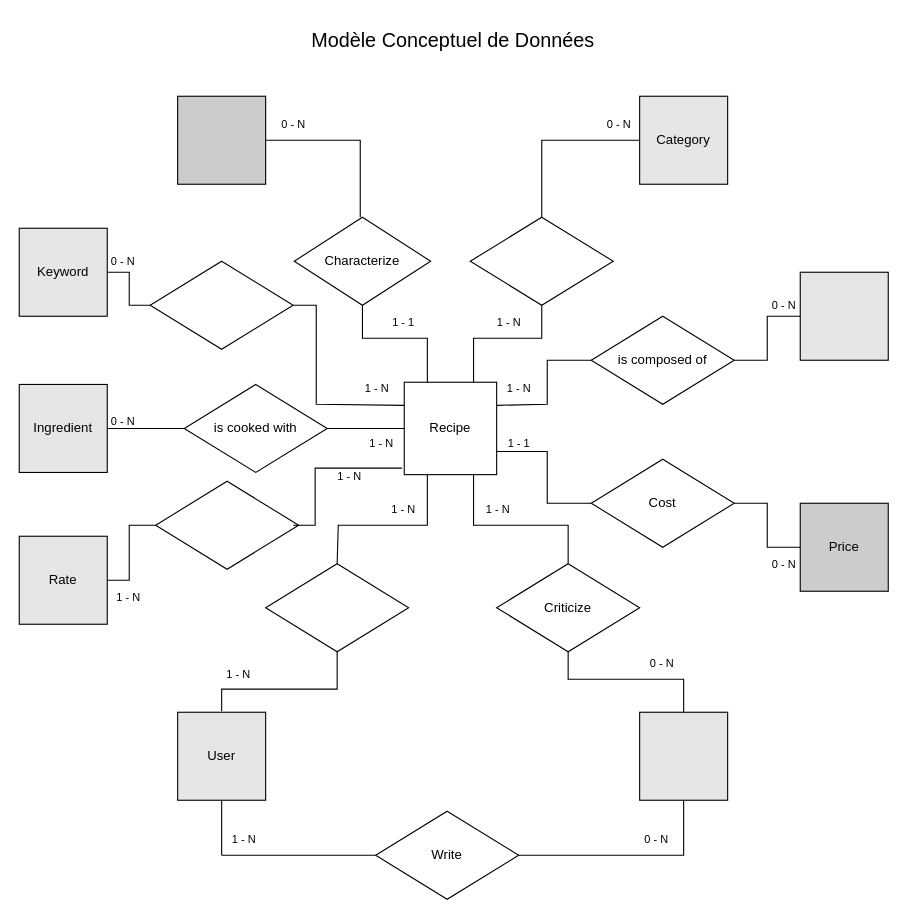
Image size: 908x919. Some labels were removed from this diagram. Each missing label, with the centre of its shape:
"Comment" belongs at point 683,755.
"contains" belongs at point 221,304.
"Difficulty" belongs at point 221,139.
"Elaborate" belongs at point 337,607.
"Evaluate" belongs at point 227,524.
"Is part of" belongs at point 541,260.
"Step" belongs at point 843,315.
